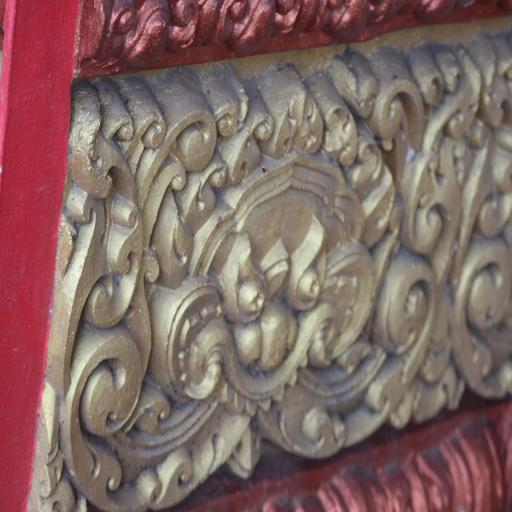la: (268, 257, 442, 468), (65, 345, 251, 501), (65, 117, 146, 334), (402, 70, 489, 256), (270, 73, 322, 151), (354, 132, 393, 232), (226, 104, 268, 186), (152, 197, 188, 284), (182, 163, 224, 227), (322, 83, 356, 162)
